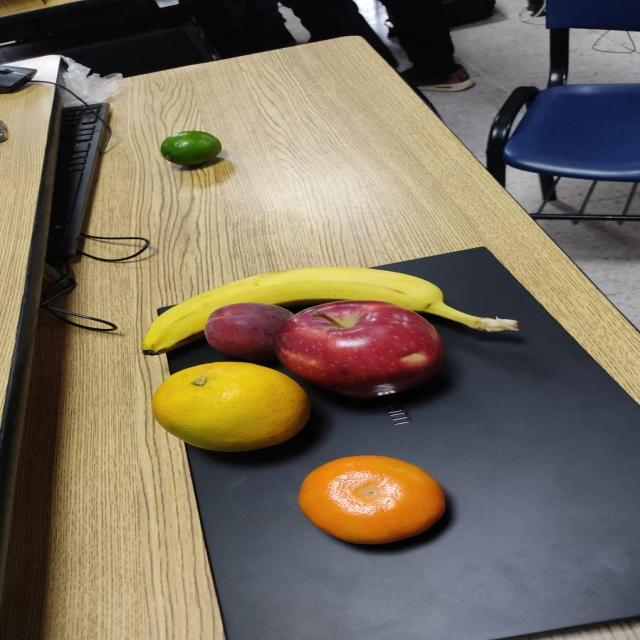Apel Merah: (274, 297, 454, 402)
Jeruk: (146, 359, 320, 462)
Jeruk Mandarin: (290, 448, 463, 552)
Lemon: (162, 129, 222, 165)
Persik: (198, 300, 299, 363)
Pisang: (130, 262, 527, 364)
